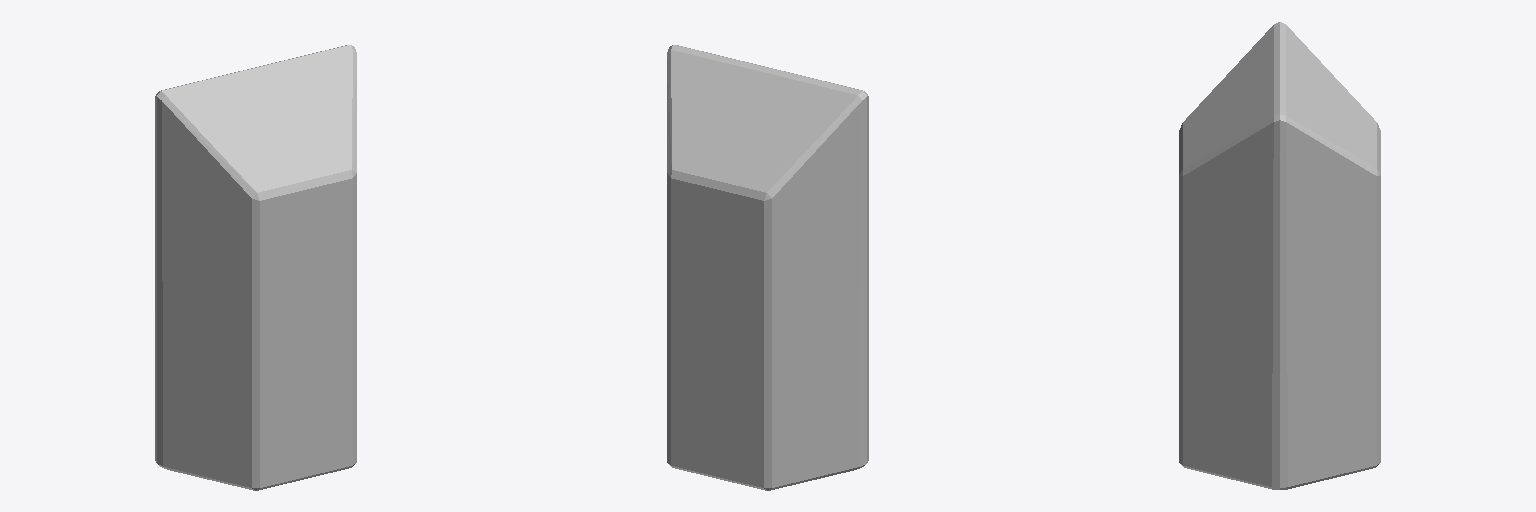
The model's file is trash.obj.
3 views of the same model, side by side, from view 1: azimuth 30°, elevation 25°; view 2: azimuth 150°, elevation 25°; view 3: azimuth 270°, elevation 25° (orthographic).
Visible parts, largest first — view 1: trash_03_Untitled; view 2: trash_03_Untitled; view 3: trash_03_Untitled.
Boxes of the visible parts, <box> form: trash_03_Untitled: <box>155,45,356,490</box>; trash_03_Untitled: <box>667,45,868,490</box>; trash_03_Untitled: <box>1179,22,1380,489</box>.
Size of the model in its own units: 2.46 by 4.47 by 2.17.